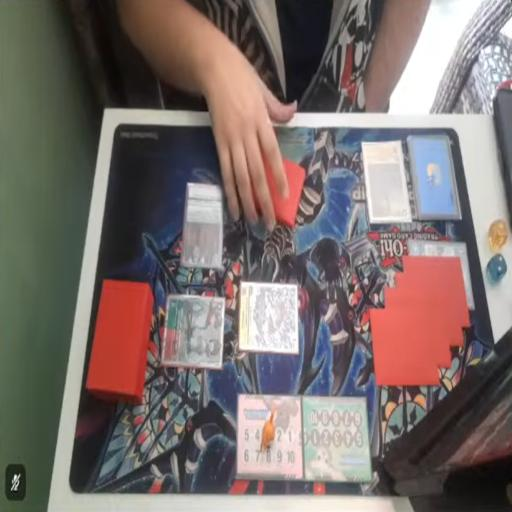card: (406, 234, 475, 306), (160, 294, 224, 370), (237, 285, 300, 356), (180, 180, 227, 272), (364, 140, 408, 225)
